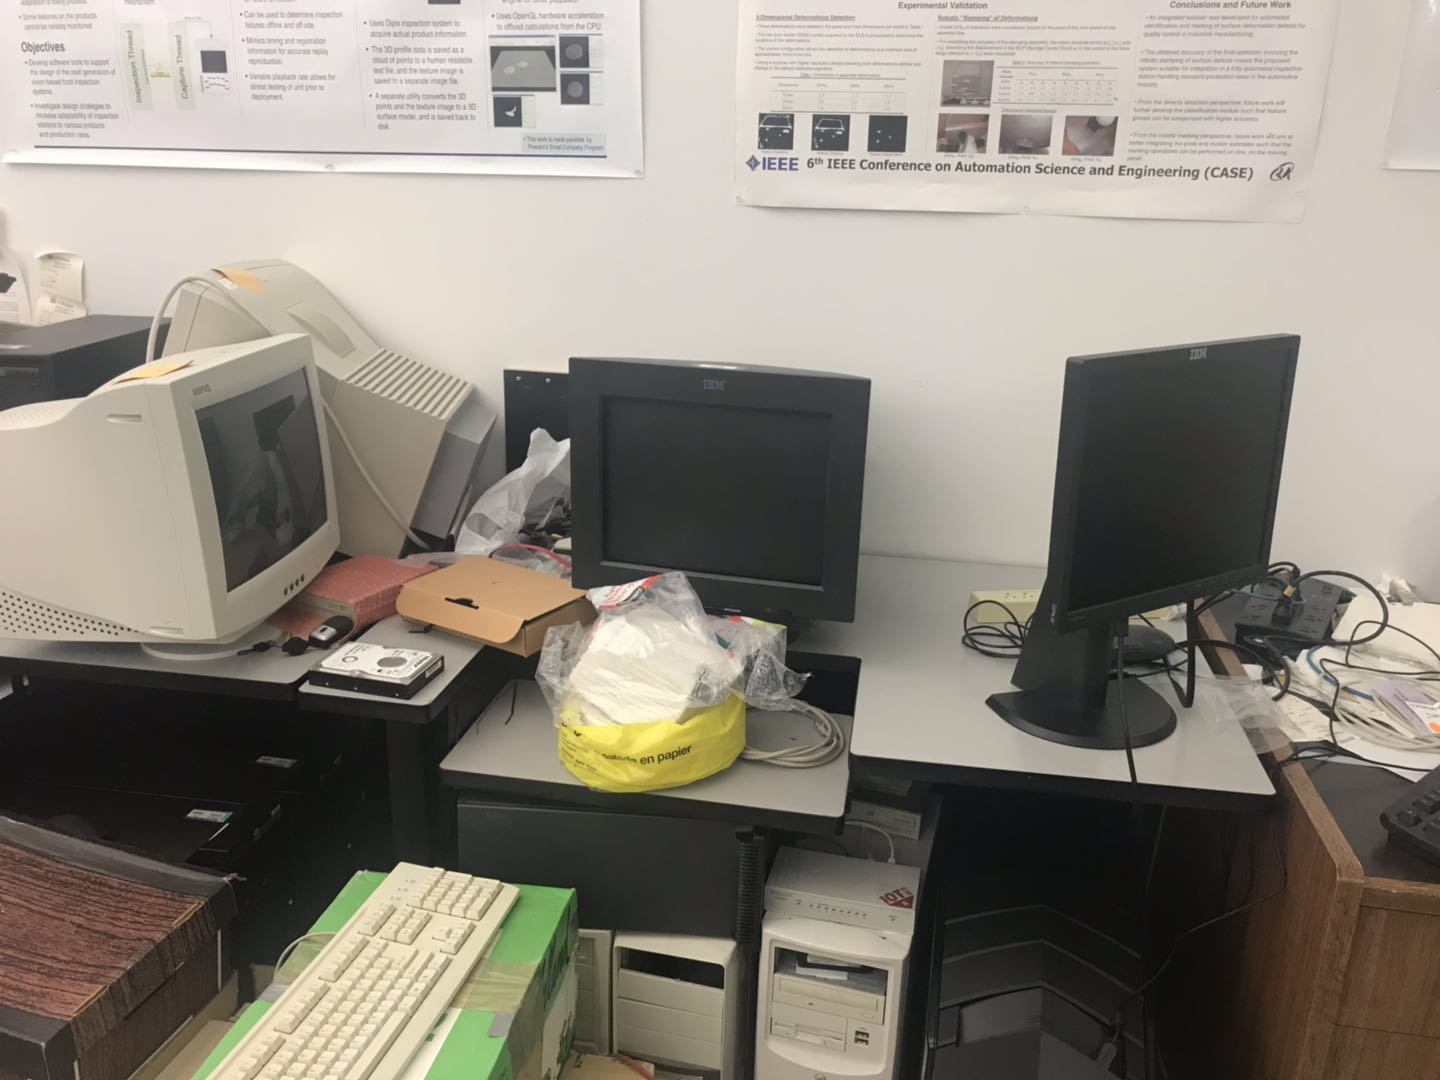tvmonitor: (985, 334, 1302, 751), (0, 334, 345, 643), (571, 357, 872, 646)
